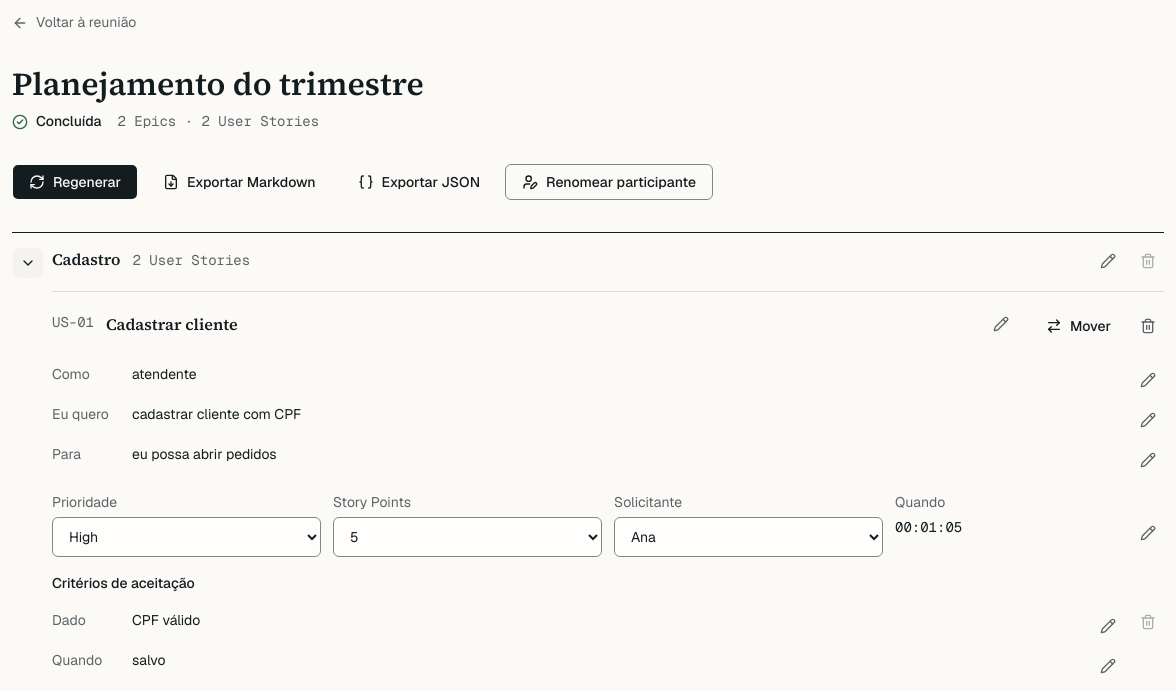
Test: texto longo salva pelo botão e erro 422 aparece junto ao campo (backlog-review 40)
Step 1. Click the button named "Editar Para" → (1148, 460), box [1132, 444, 1164, 476]
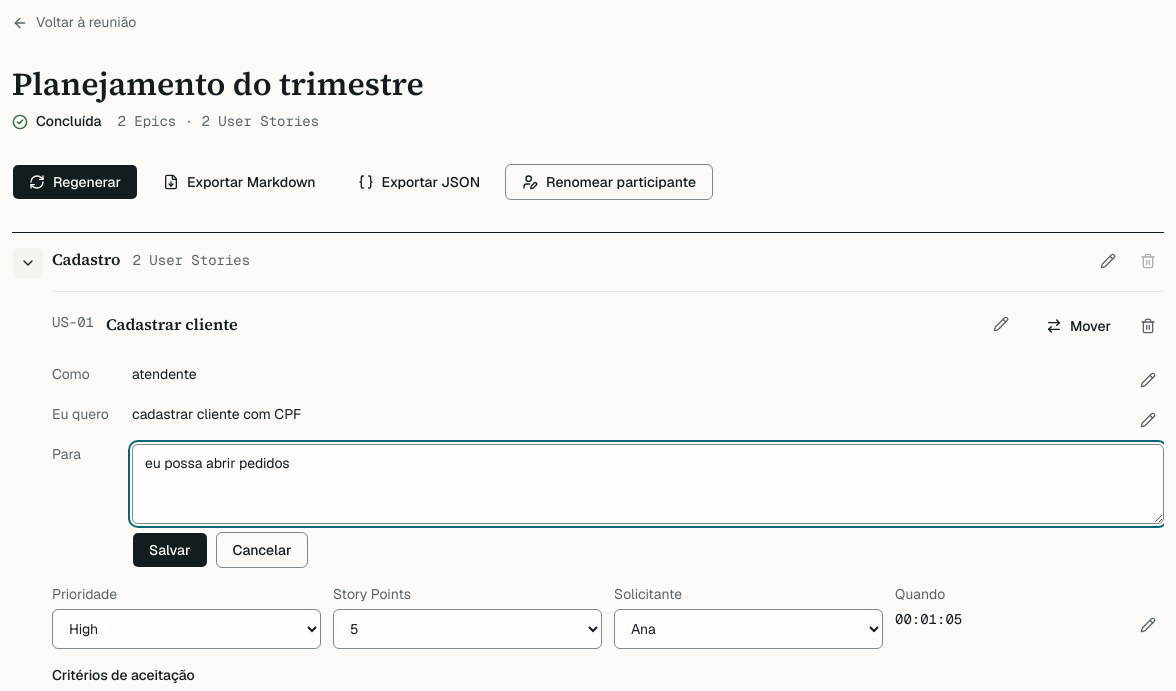
Step 2. Type " hoje" into the text box named "Para" → (648, 484), box [132, 444, 1164, 524]
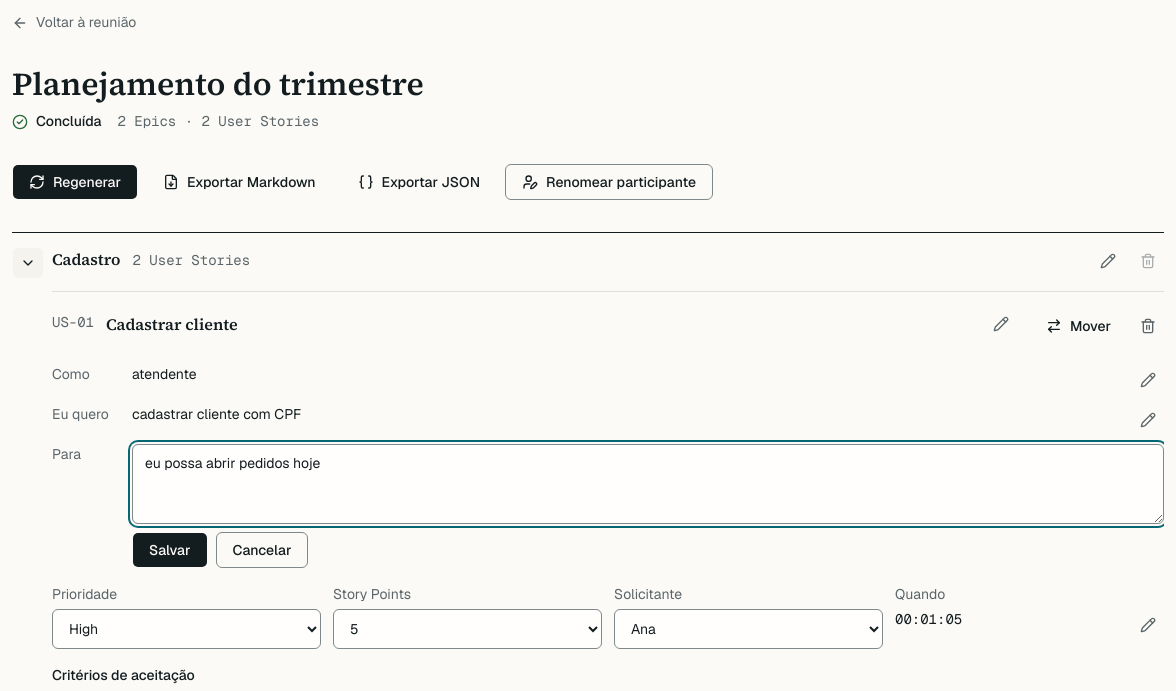
Step 3. Click the button "Salvar" → (170, 550), box [132, 532, 208, 568]
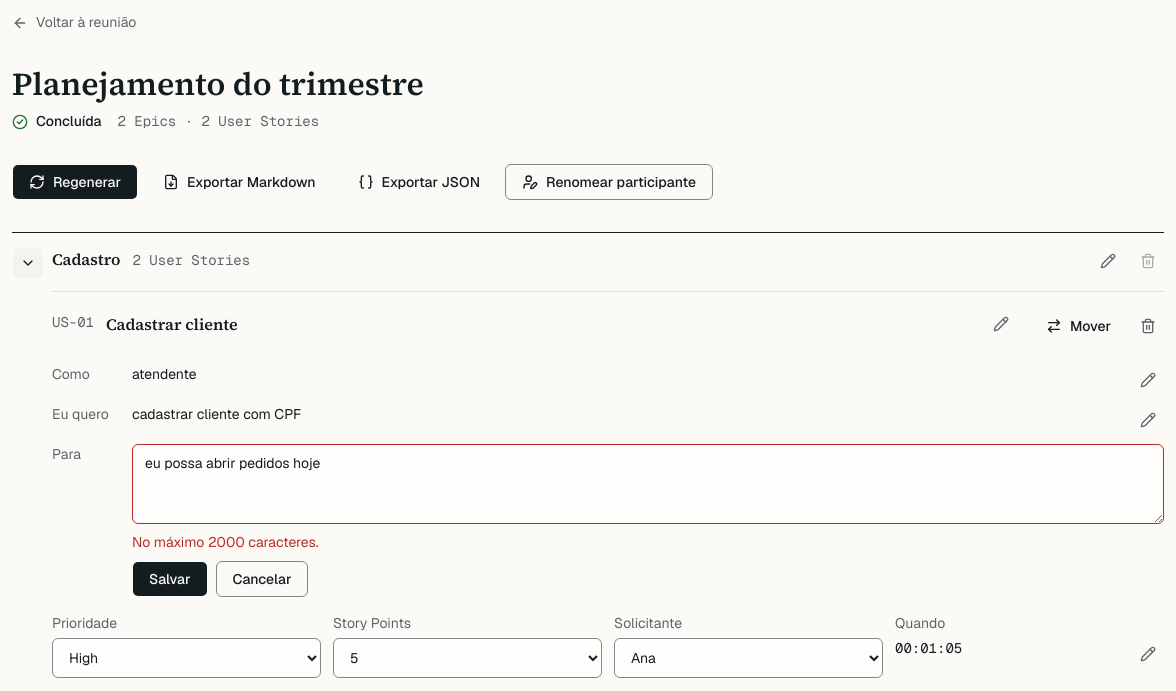
Now the message "No máximo 2000 caracteres." is shown, box [132, 533, 319, 551]
